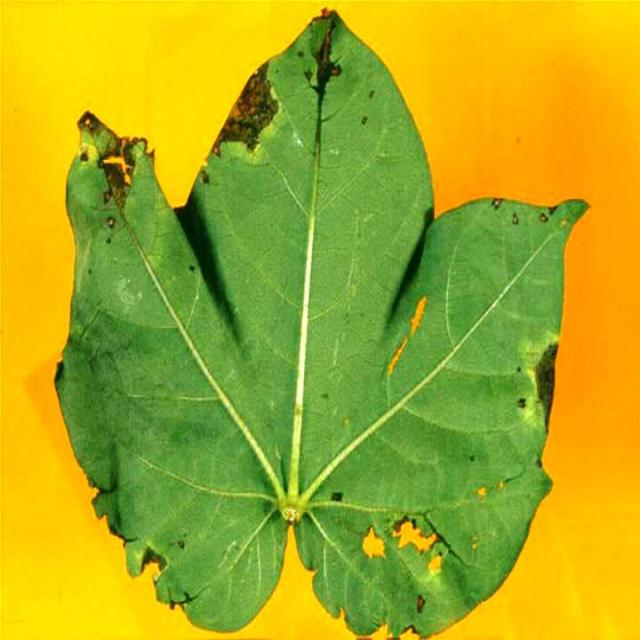Bacterial Blight: (216, 15, 395, 159), (68, 116, 169, 260)
